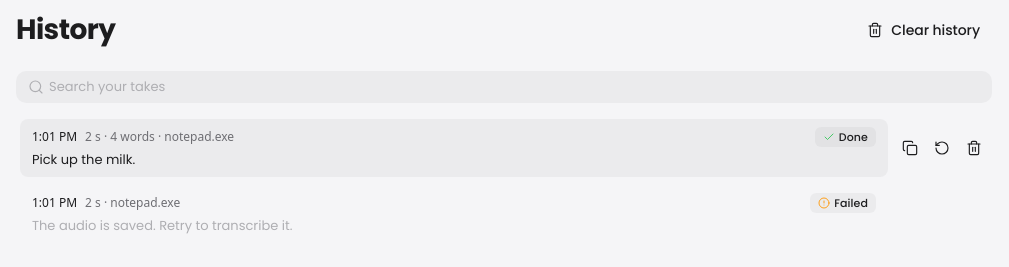
HistoryPage › searches as the user types and says when nothing matches
Expected: the text "Pick up the milk." is shown, [32, 150, 135, 169]
Type "milk" into the search field named "Search takes" at x=504, y=87, box [16, 71, 992, 103]
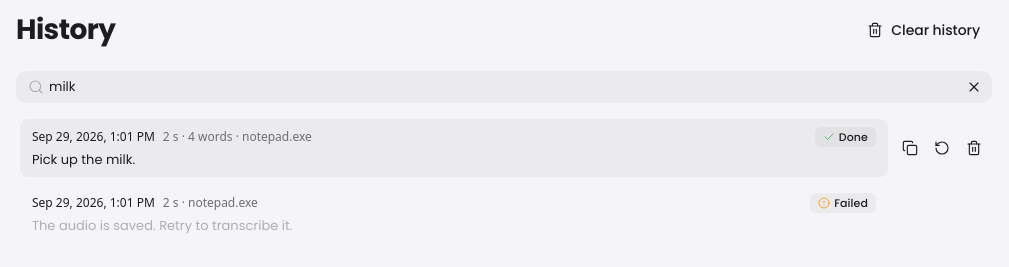
Replace the text in the search field named "Search takes" with "zebra" at x=504, y=87, box [16, 71, 992, 103]
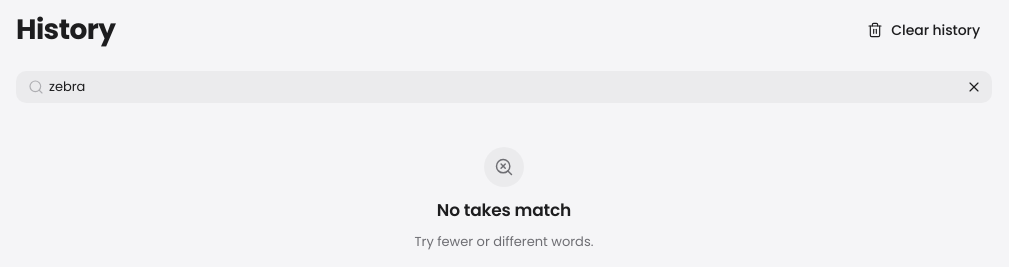
Expected: the heading "No takes match" is shown, [437, 199, 571, 221]
